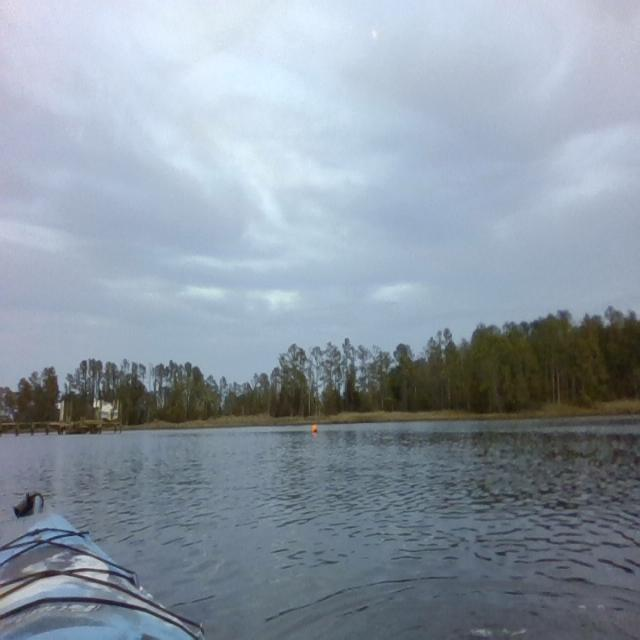Buoy: (310, 422, 319, 436)
